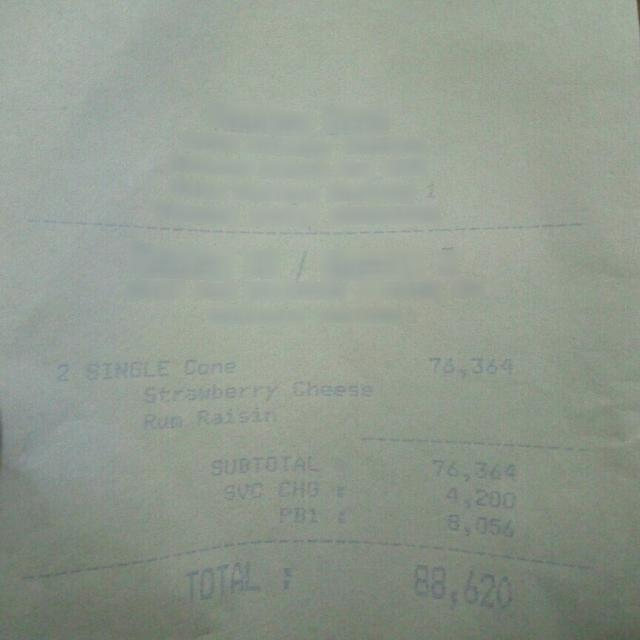kertas: (4, 0, 638, 640)
